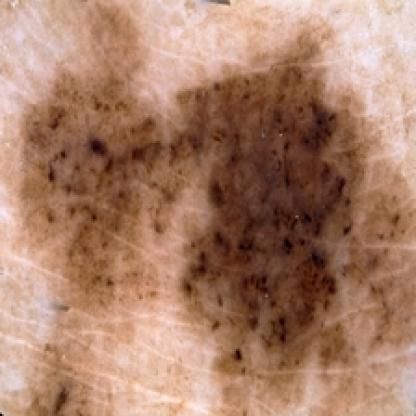Skin_Cancer-Malignant: (1, 7, 416, 415)
